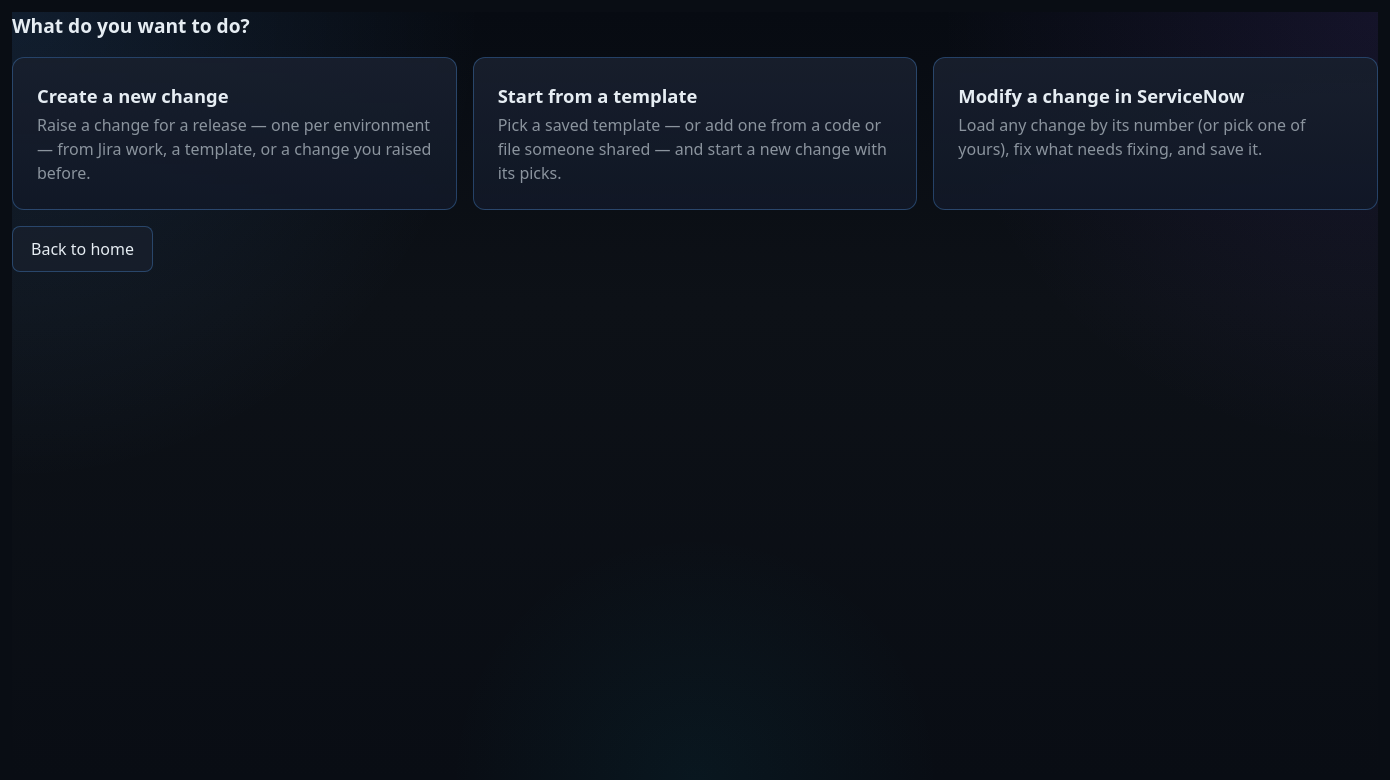
Scenario: ChangeWizard — templates › opens template management from the first screen and comes back
The image size is (1390, 780).
Click the button "Start from a template" at (695, 134), box top-left (473, 57), bottom-right (917, 210)
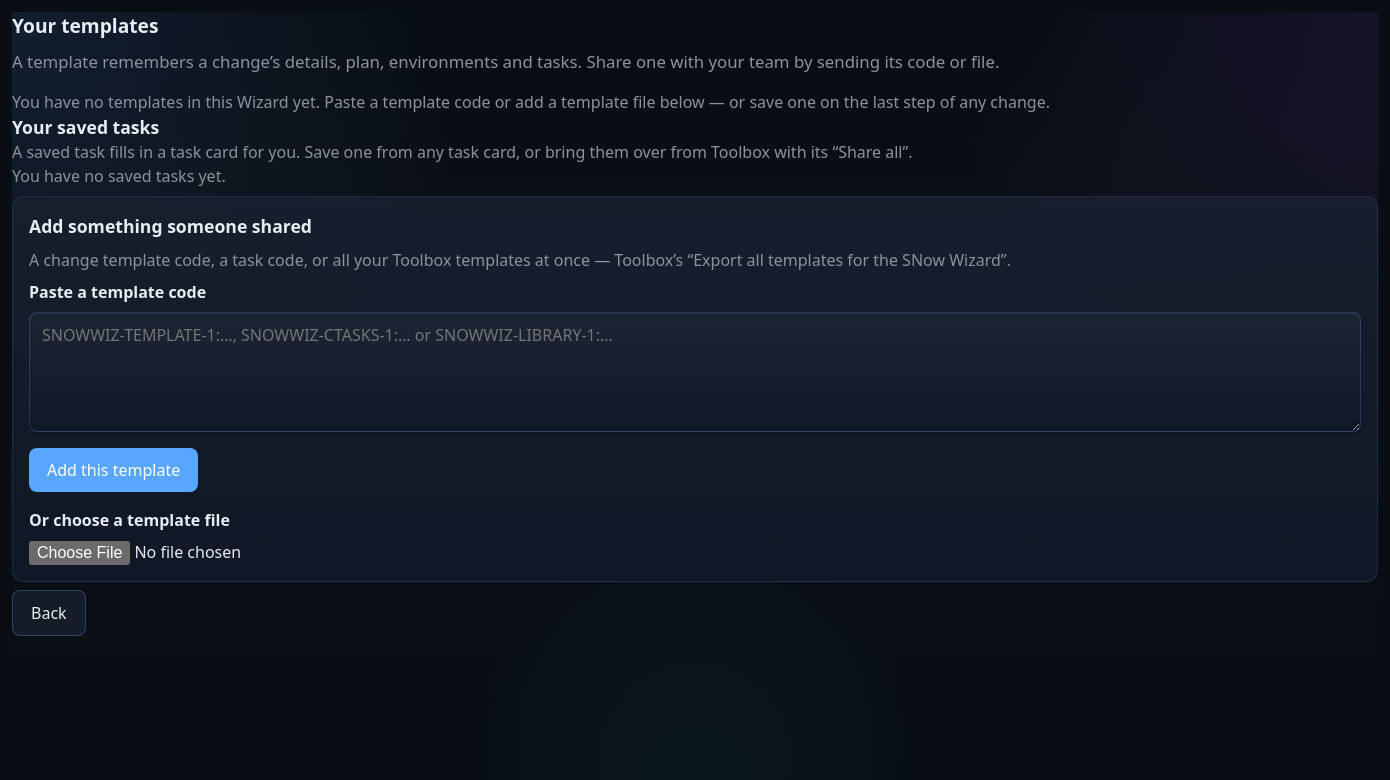
Now the heading "Your templates" is shown, box top-left (12, 12), bottom-right (158, 39)
Click the button "Back" at (49, 613), box top-left (12, 590), bottom-right (86, 636)
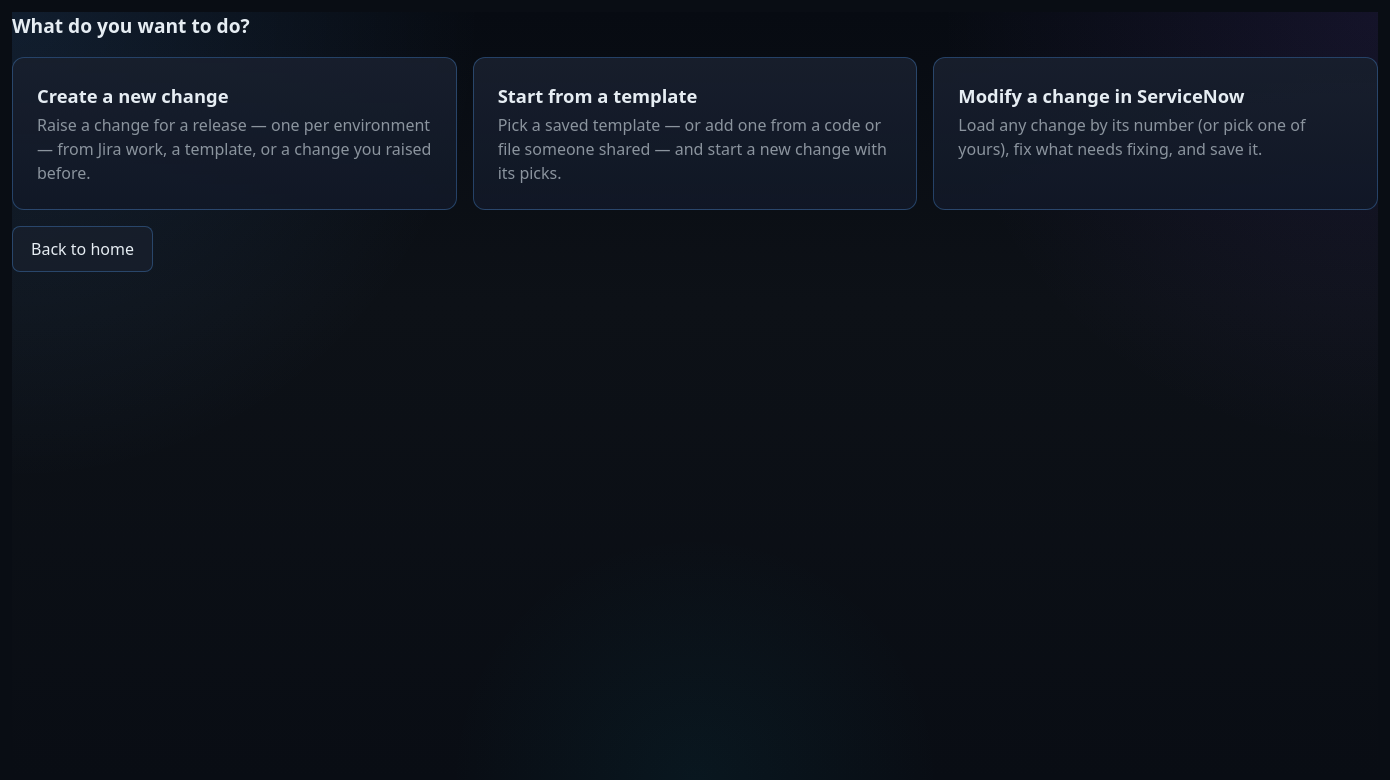
Now the heading "What do you want to do?" is shown, box top-left (12, 12), bottom-right (250, 39)
